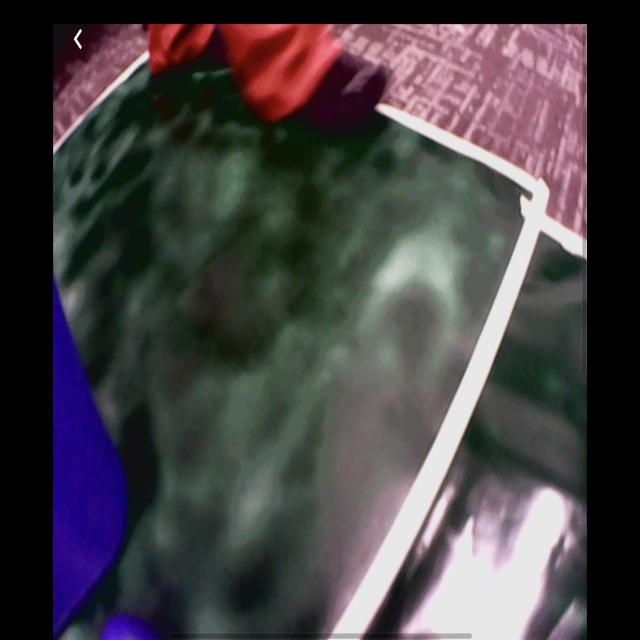ball: (101, 614, 163, 640)
